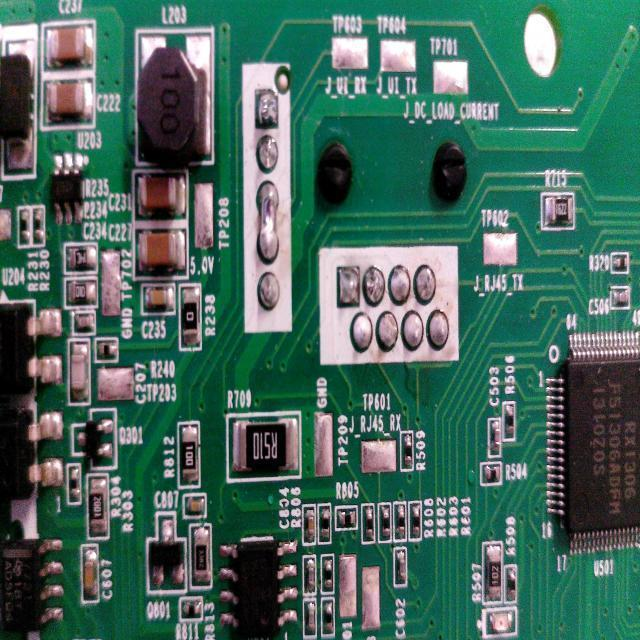Soldering shorted: (256, 177, 281, 263)
